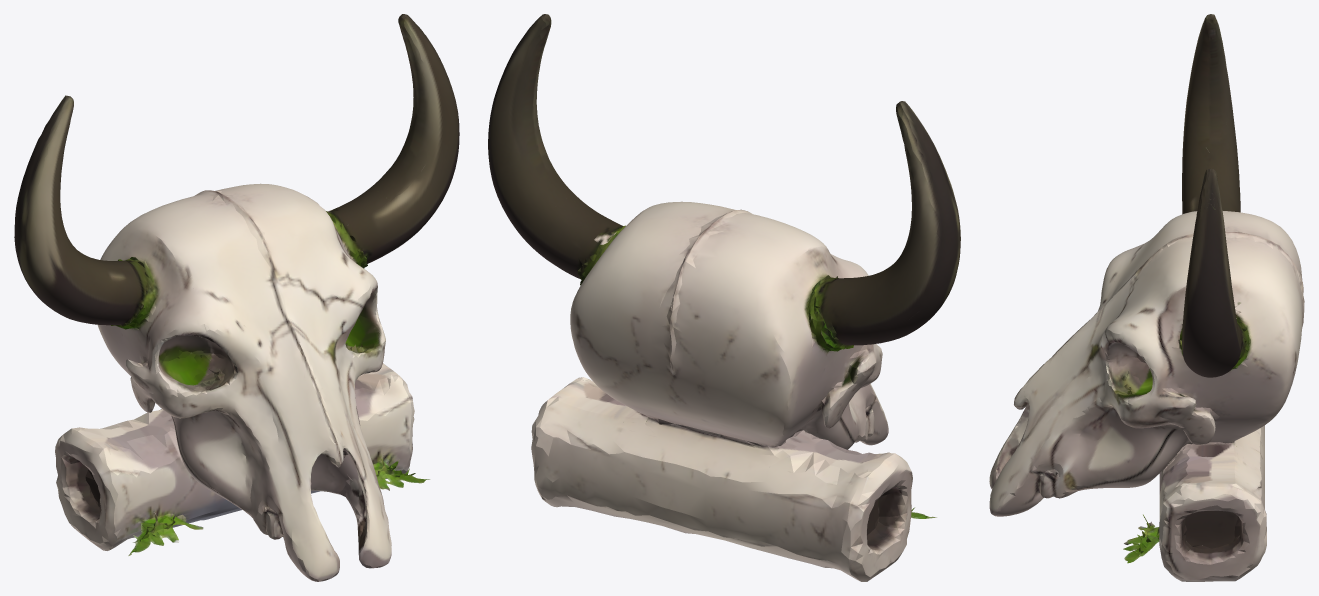
The model's file is rodin_Lab_BullSkull_raw.glb.
3 views of the same model, side by side, from view 1: azimuth 30°, elevation 25°; view 2: azimuth 150°, elevation 25°; view 3: azimuth 270°, elevation 25° (orthographic). The views are drawn at different scales.
Visible parts, largest first — view 1: model; view 2: model; view 3: model.
Boxes of the visible parts, x1,y1,x2,y2 form: model: (14, 14, 459, 581); model: (488, 14, 960, 581); model: (989, 14, 1304, 581).
Size of the model in its own units: 1.9 by 1.87 by 1.26.
Materials: 1 (1 with a texture image).
